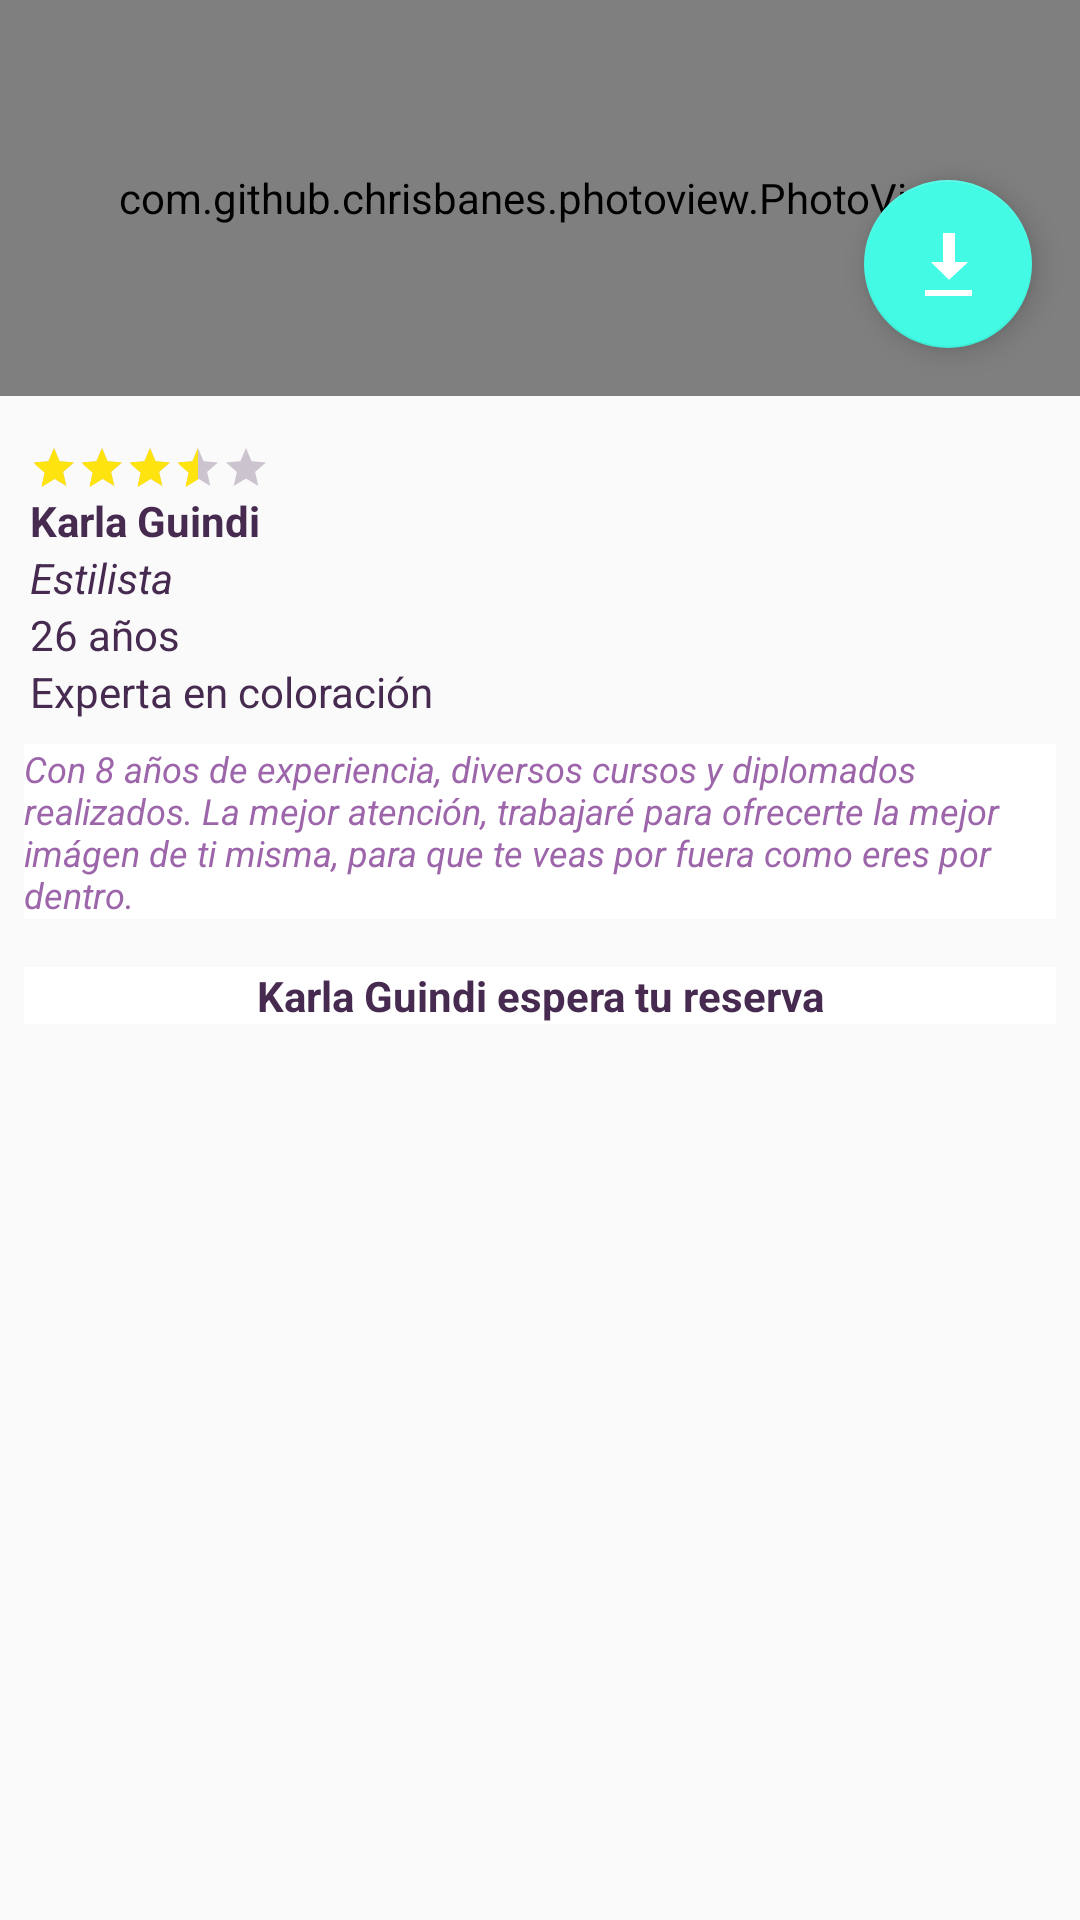

Named icons in this screenshot (1080 x 1920) and their bounding boxes, (x1, y1, x2, y2):
download done: (864, 180, 1032, 348)
